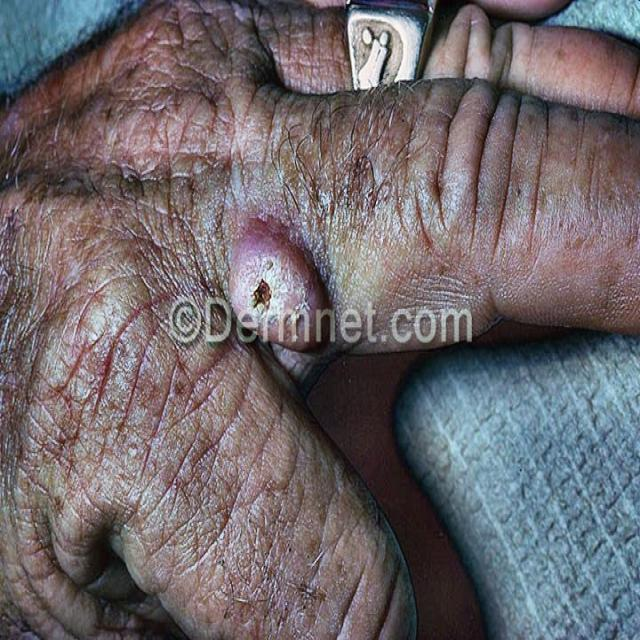Seborrheic-Keratoses-and-other-Benign-Tumors: (192, 169, 361, 402)
